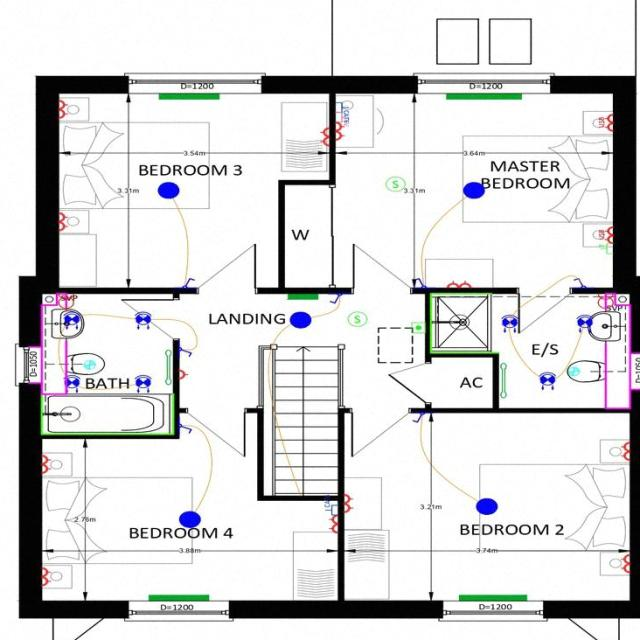Cat 6 Data Socket: (322, 492, 338, 514), (335, 102, 348, 120)
Ceiling Mounted Continuous Extract FanWith Boost Mode Activated By Light Switch: (567, 366, 579, 375), (83, 359, 94, 368)
Co-Ax TV Socket: (335, 111, 348, 126)
Double Socket: (446, 279, 470, 288), (41, 566, 51, 586), (58, 210, 67, 232), (58, 99, 67, 119), (334, 122, 344, 140), (319, 127, 328, 146), (620, 442, 629, 461), (41, 455, 50, 473), (328, 515, 337, 532), (344, 493, 352, 512), (620, 554, 628, 573)
Full Height Tiling: (39, 394, 174, 434), (430, 292, 498, 353)
Light Switch: (178, 346, 192, 357), (178, 423, 192, 434), (572, 277, 585, 287), (182, 277, 194, 287), (412, 412, 423, 422), (414, 277, 425, 287), (329, 293, 341, 302)
Low Energy Downlighter: (133, 374, 150, 392), (62, 375, 80, 392), (134, 310, 150, 329), (63, 311, 79, 329), (501, 314, 517, 332), (576, 314, 592, 332), (539, 371, 555, 389)
Low Energy Pendant Light: (462, 181, 484, 198), (288, 311, 310, 328), (157, 181, 179, 198), (474, 498, 496, 514), (178, 511, 200, 527)
Mains Wired Smoke Detector: (347, 310, 366, 326), (385, 176, 405, 190)
Programmable Room Thermostat: (411, 321, 424, 332)
Radiator: (458, 594, 527, 602), (445, 92, 521, 99), (158, 92, 220, 99), (148, 594, 209, 600), (287, 293, 317, 298)
Shaver Socket: (58, 293, 74, 311), (597, 293, 613, 311)
Single Socket: (178, 369, 187, 379)
USB Double Socket: (597, 113, 612, 130), (598, 226, 612, 242)
